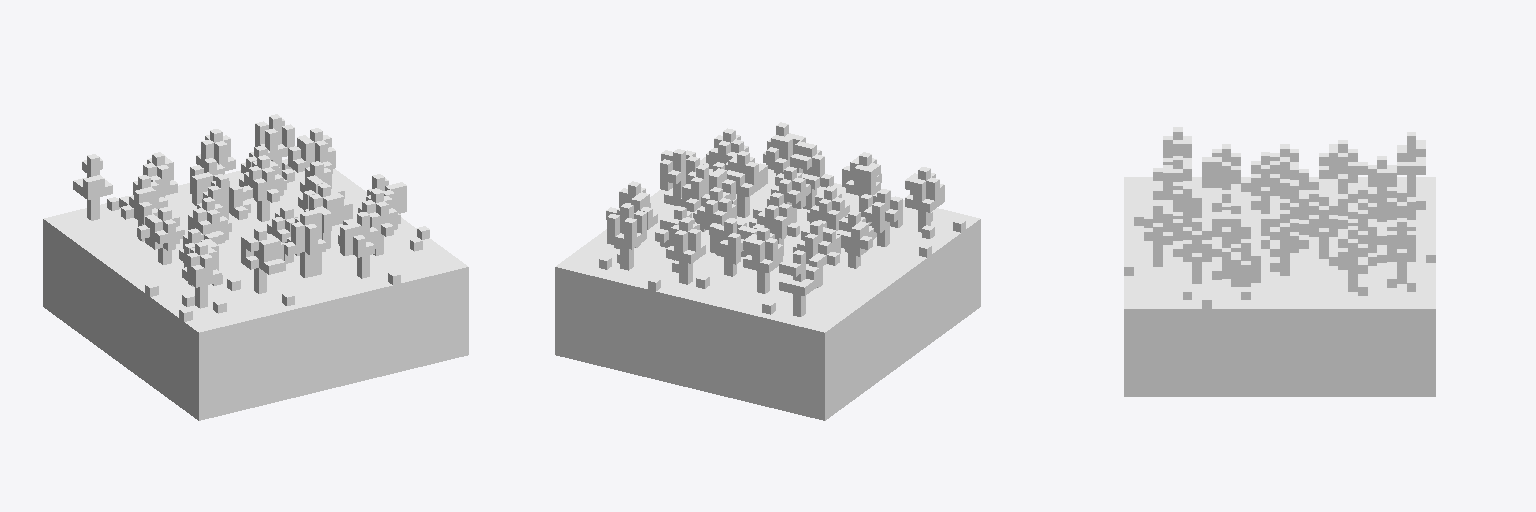
Rendered from Overworld_Land_04.obj.
3 renders of one model, left to right at view 1: azimuth 30°, elevation 25°; view 2: azimuth 150°, elevation 25°; view 3: azimuth 270°, elevation 25°, orthographic.
Visible parts, largest first — view 1: object 1; view 2: object 1; view 3: object 1.
Boxes of the visible parts, x1=… form: object 1: x1=43, y1=114, x2=468, y2=420; object 1: x1=555, y1=122, x2=980, y2=420; object 1: x1=1124, y1=127, x2=1435, y2=396.
Bounding box in the file's own units: 3.2 × 1.7 × 3.2.